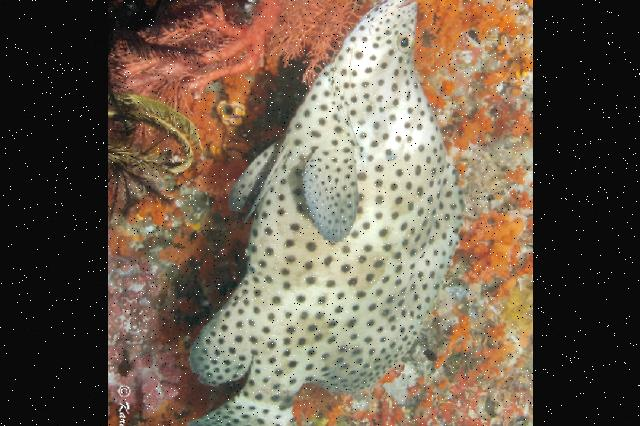Mulut: (369, 0, 428, 24)
Sirip Anal: (185, 290, 259, 386)
Sirip Dada: (296, 125, 358, 258)
Sirip Ekor: (200, 400, 308, 426)
Sirip Perut: (218, 132, 290, 222)
Sirip Punggung: (304, 166, 470, 398)
